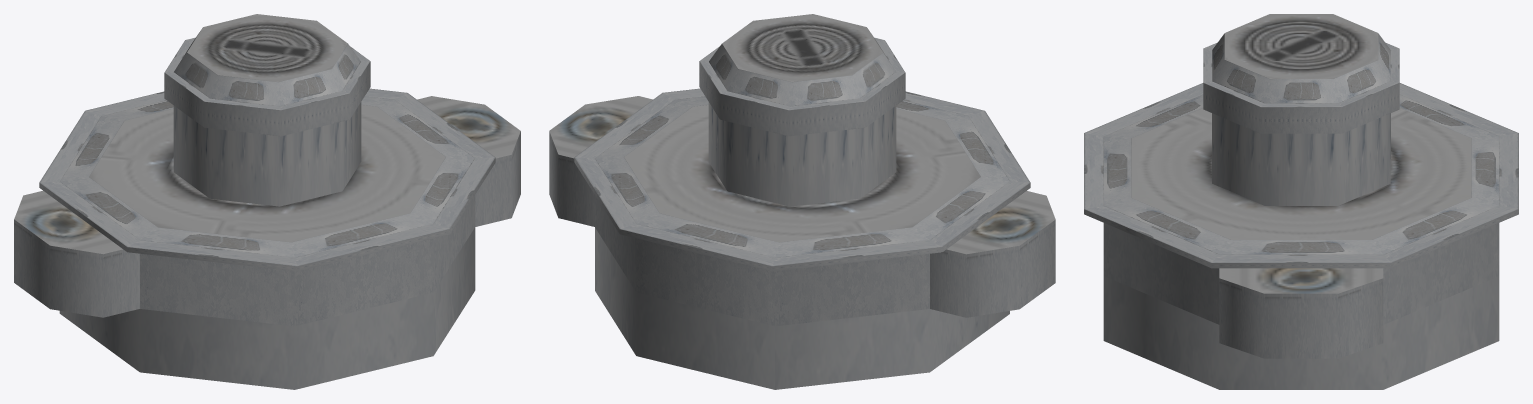
File: SM_HoseSysT_ground2.fbx
3 renders of one model, left to right at view 1: azimuth 30°, elevation 25°; view 2: azimuth 150°, elevation 25°; view 3: azimuth 270°, elevation 25°, orthographic. The views are drawn at different scales.
Parts seen in each view (by area): view 1: SM_HoseSysT_ground2_LOD0; view 2: SM_HoseSysT_ground2_LOD0; view 3: SM_HoseSysT_ground2_LOD0.
Part boxes in pixels (x1=…): SM_HoseSysT_ground2_LOD0: x1=14, y1=14, x2=520, y2=389; SM_HoseSysT_ground2_LOD0: x1=549, y1=14, x2=1055, y2=389; SM_HoseSysT_ground2_LOD0: x1=1084, y1=14, x2=1518, y2=389.
Bounding box in the file's own units: 38.75 × 30.33 × 23.15.
2 materials, 2 textured.
